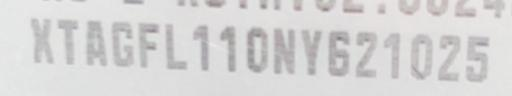letter: (269, 26, 305, 76), (22, 15, 56, 64), (463, 30, 493, 79), (354, 29, 382, 79), (134, 21, 162, 69), (242, 25, 270, 71), (408, 32, 436, 78), (435, 33, 463, 79), (53, 18, 81, 63), (300, 27, 326, 75), (327, 28, 353, 76), (110, 20, 136, 67), (84, 17, 108, 65), (382, 30, 406, 78), (162, 25, 188, 69), (218, 25, 240, 69), (192, 26, 216, 66)
